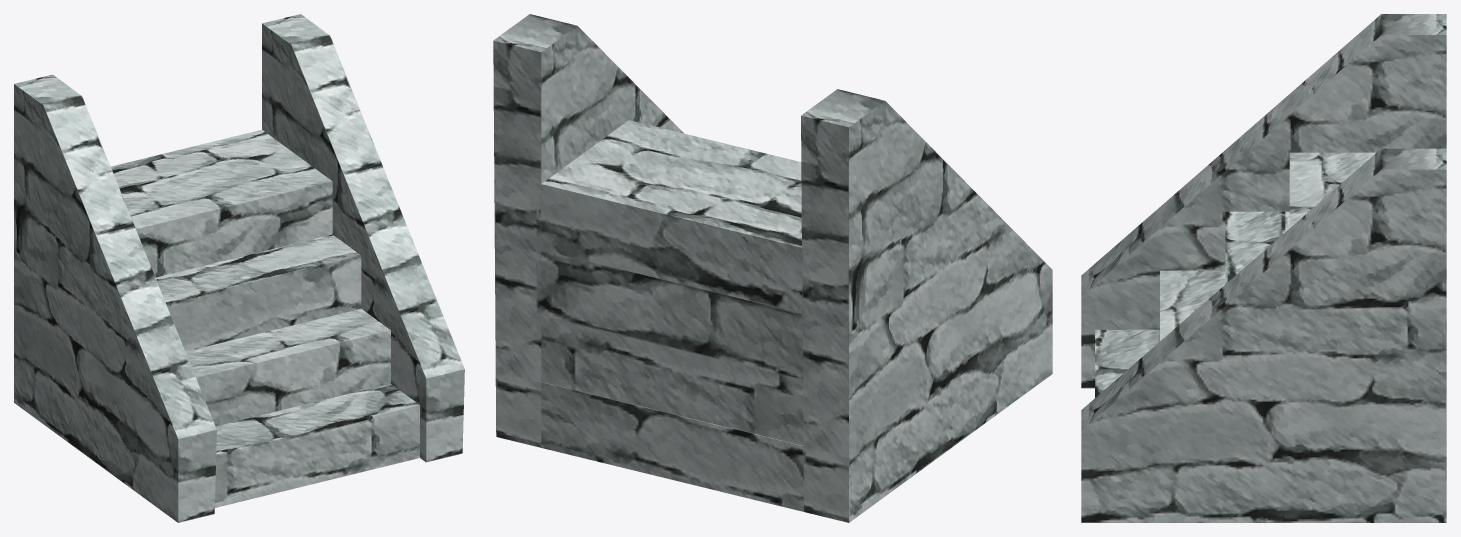
File: SM_Bridge_01.fbx
3 views of the same model, side by side, from view 1: azimuth 30°, elevation 25°; view 2: azimuth 150°, elevation 25°; view 3: azimuth 270°, elevation 25° (orthographic). The views are drawn at different scales.
Parts seen in each view (by area): view 1: SM_Bridge_01; view 2: SM_Bridge_01; view 3: SM_Bridge_01.
Part boxes in pixels (x1,y1,x2,y2): SM_Bridge_01: (14, 14, 464, 522); SM_Bridge_01: (493, 14, 1052, 522); SM_Bridge_01: (1081, 14, 1446, 522).
Bounding box in the file's own units: 28.23 × 30 × 27.99.
